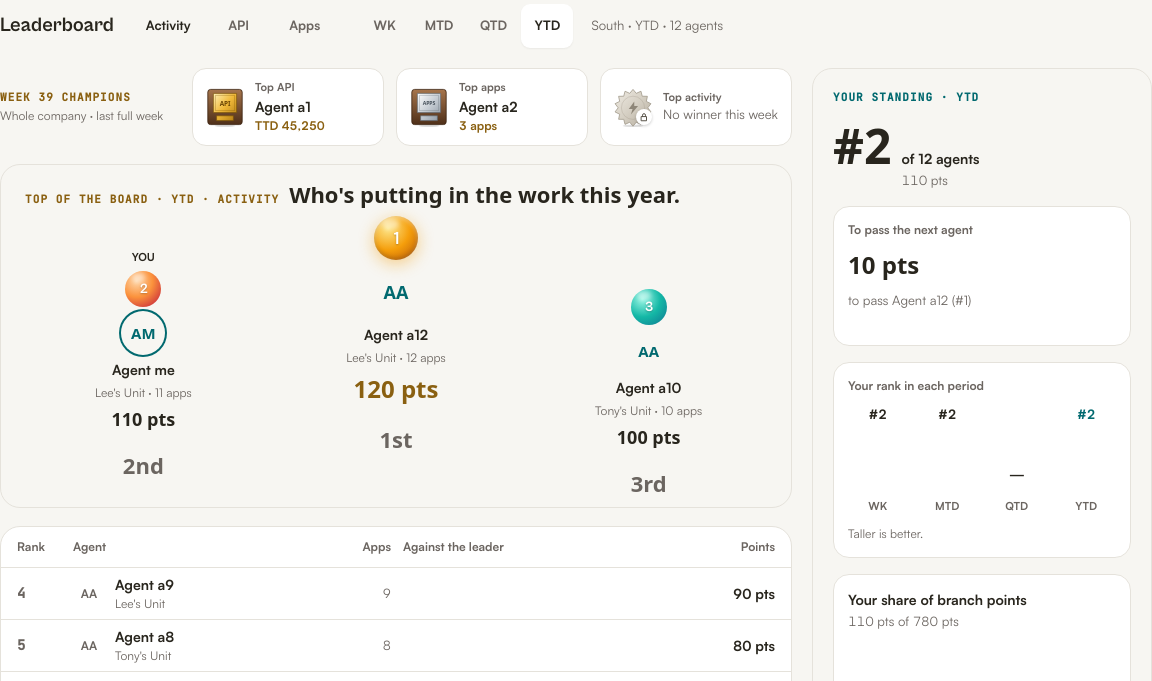
Test case: FR Leaderboard — read-time derivations (API board) › to pass: the gap and the name of the agent above; "You lead" at #1
The width and height of the screenshot is (1152, 681).
Click the radio button with test id "fr-leaderboard-board-api": click(239, 26) [207,4,271,48]
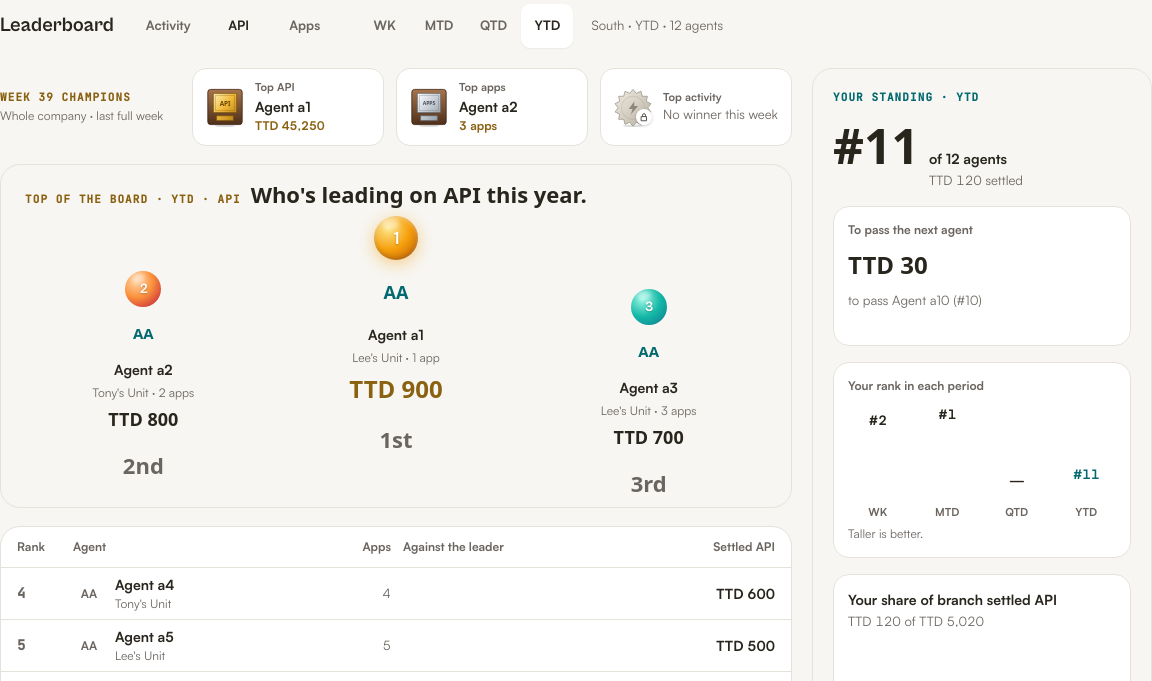
Now the element with test id "fr-leaderboard-topass" shows "TTD 30", box [848,248,928,281]
Now the element with test id "fr-leaderboard-topass" shows "to pass Agent a10 (#10)", box [848,292,982,308]
Click the radio button with test id "fr-leaderboard-period-mtd": click(439, 26) [413,4,466,48]
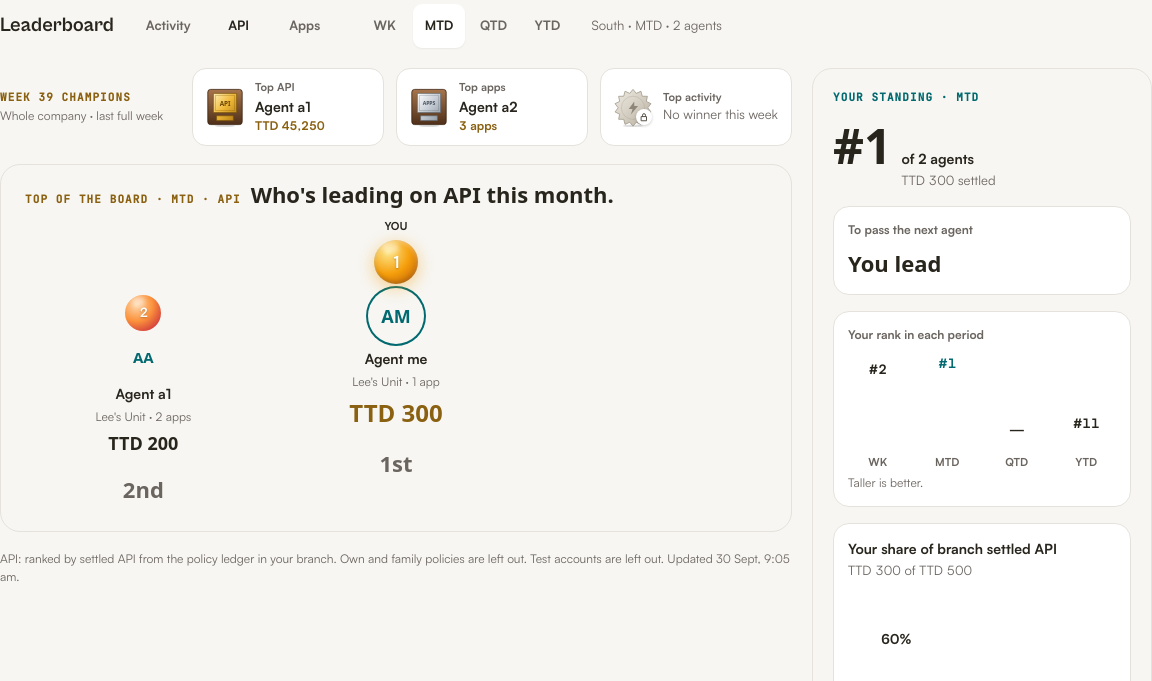
Now the element with test id "fr-leaderboard-topass" shows "You lead", box [848,248,941,278]
